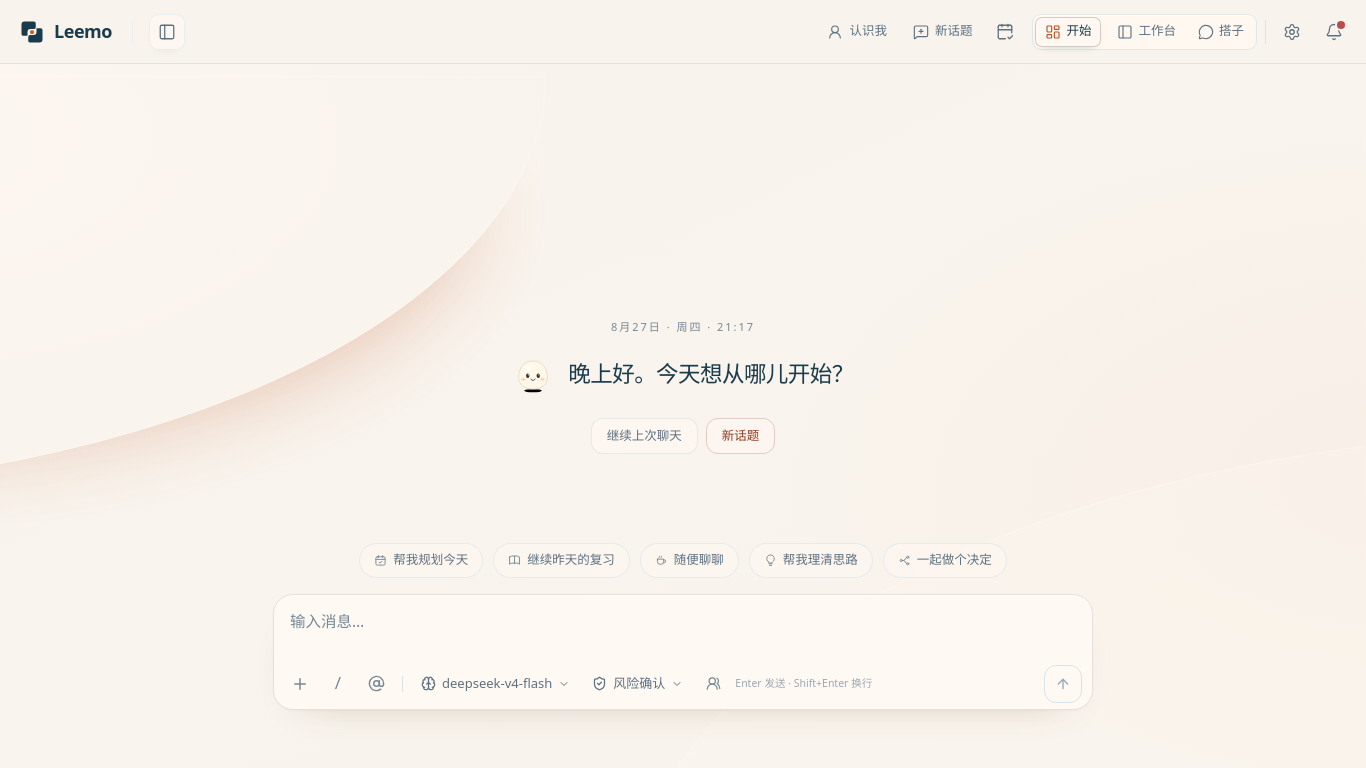
Test case: HistoryDrawer — real conversations, not fixtures › uses the approved buddy drawer hierarchy without duplicating settings
The image size is (1366, 768).
Expected: the button "继续上次聊天" is shown, [591, 418, 698, 454]
Click the button named "历史对话".
click(167, 32)  # box [149, 14, 185, 50]
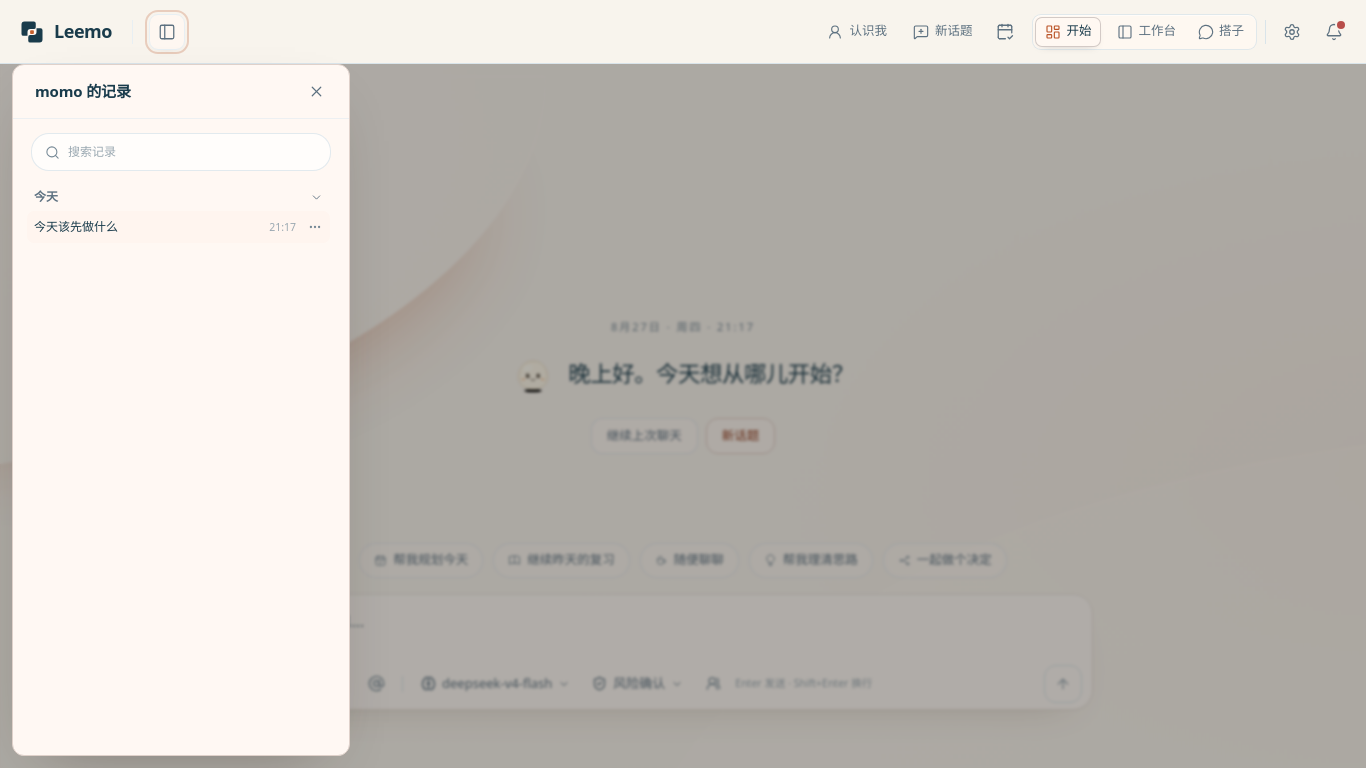
Now the heading "momo 的记录" is shown, box [35, 80, 131, 103]
Now the button named "关闭记录" is shown, box [301, 76, 331, 106]
Now the search field labelled "搜索记录" is shown, box [68, 143, 317, 161]
